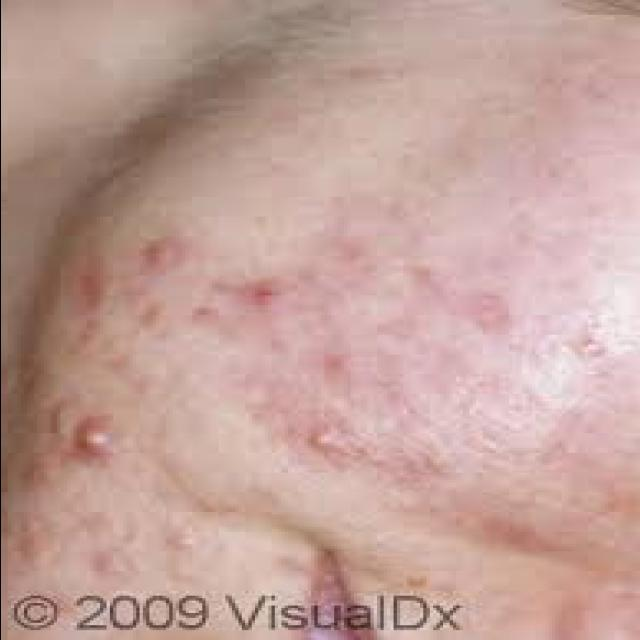Acne: (303, 420, 367, 472), (68, 412, 122, 472), (70, 253, 112, 317), (242, 274, 296, 316), (140, 238, 188, 276)
